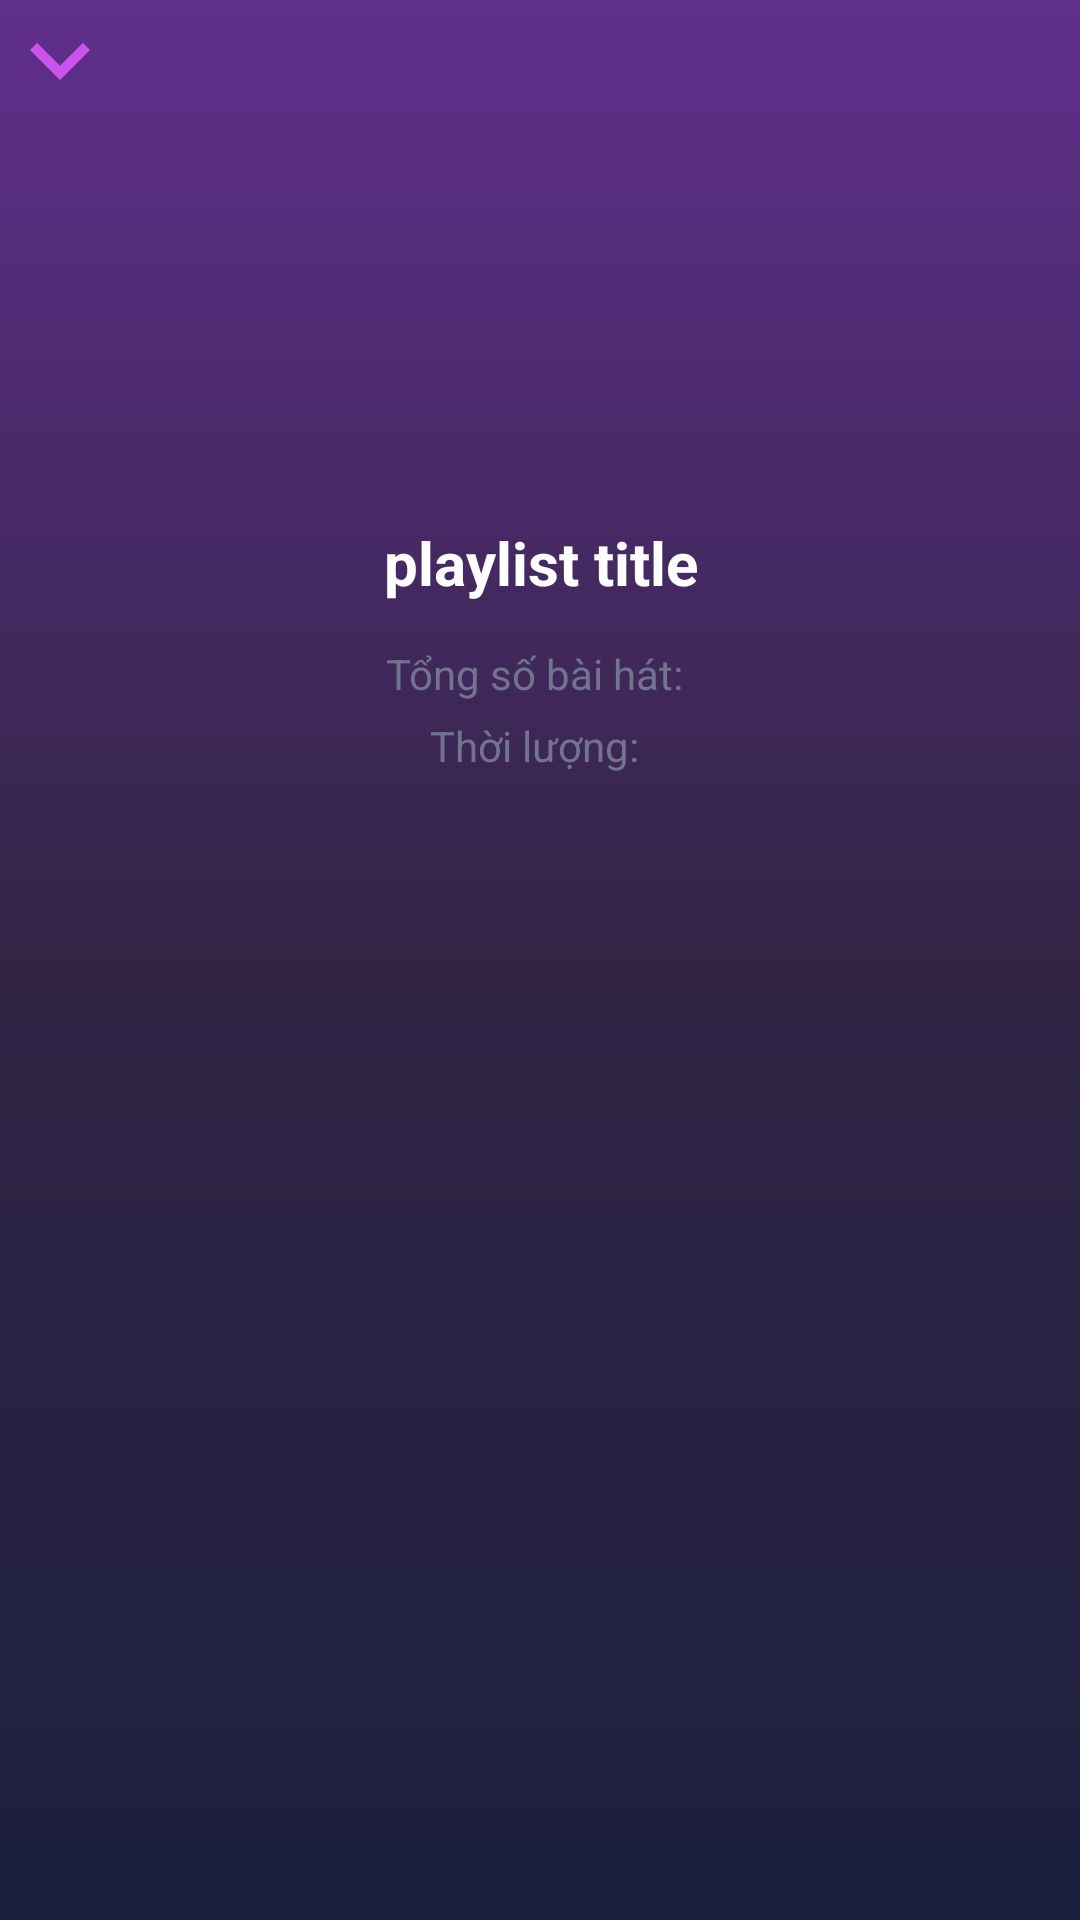

Named icons in this screenshot (1080px x 1920px) and their centers, point (x, y):
keyboard arrow down: point (60, 61)
